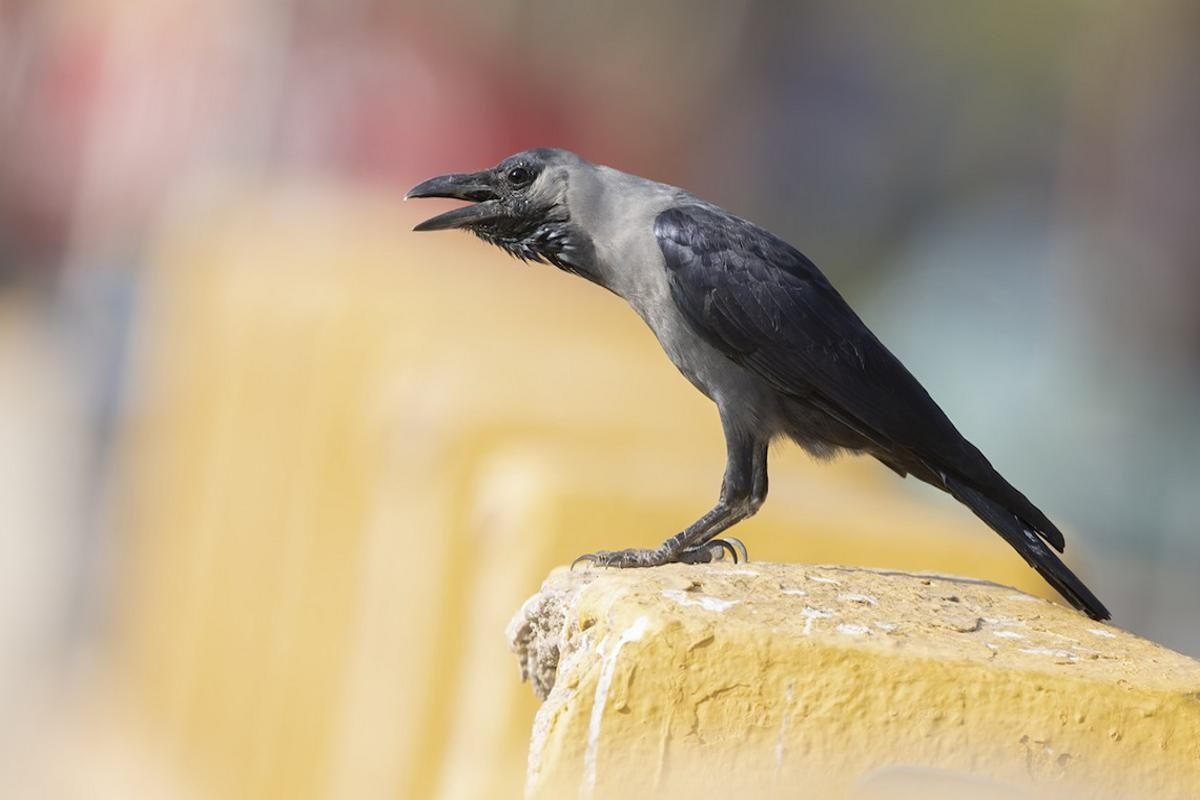crow: (407, 136, 1053, 648)
